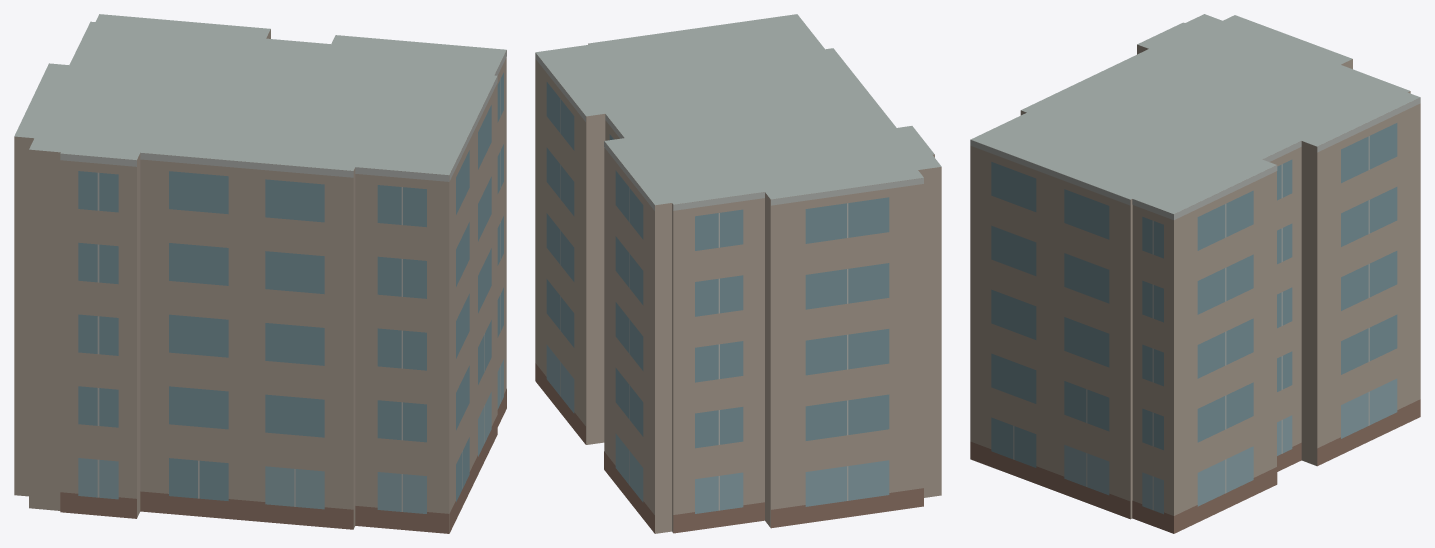
File: survey-upis-32615056.glb
3 renders of one model, left to right at view 1: azimuth 30°, elevation 25°; view 2: azimuth 150°, elevation 25°; view 3: azimuth 270°, elevation 25°, orthographic. The views are drawn at different scales.
Parts seen in each view (by area): view 1: survey-upis-32615056.tmp; view 2: survey-upis-32615056.tmp; view 3: survey-upis-32615056.tmp.
Boxes of the visible parts, bbox=[...] form: survey-upis-32615056.tmp: bbox=[14, 14, 506, 533]; survey-upis-32615056.tmp: bbox=[535, 14, 941, 533]; survey-upis-32615056.tmp: bbox=[970, 14, 1420, 533].
Size of the model in its own units: 17.48 by 13 by 16.61.
